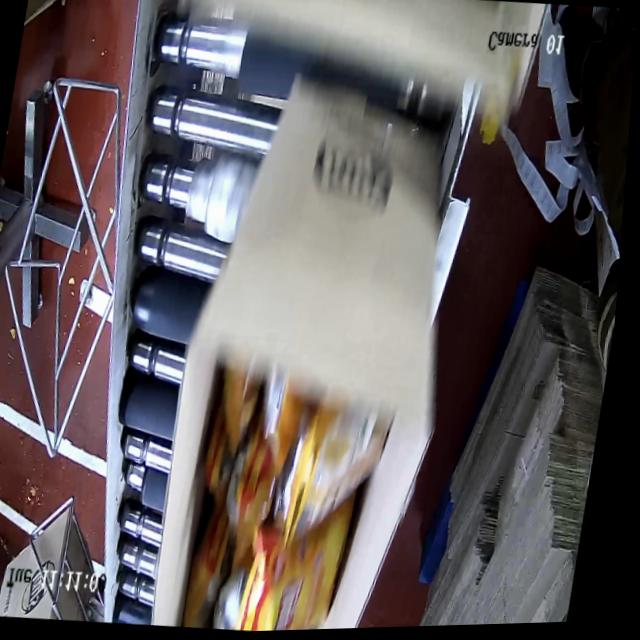FRENCH_CHEESE: (178, 365, 424, 633)
